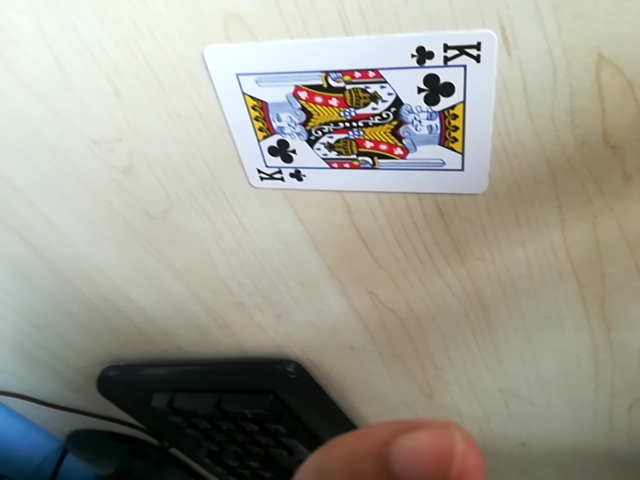mh k: (413, 37, 486, 68), (248, 162, 305, 186)
